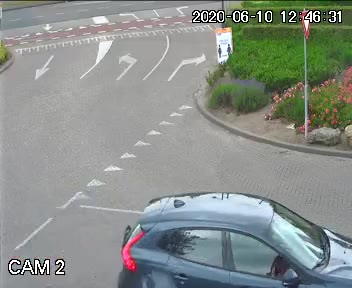car: (99, 180, 352, 288)
